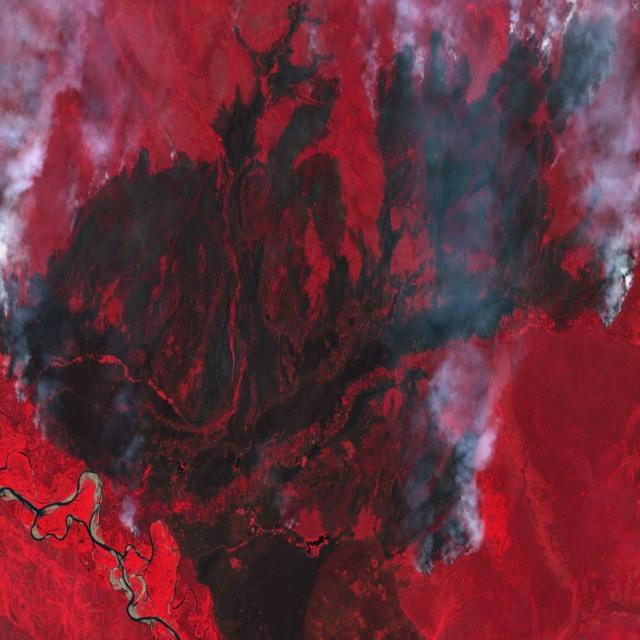fire: (366, 0, 637, 335), (0, 131, 118, 471), (222, 6, 350, 107), (420, 426, 501, 570)
